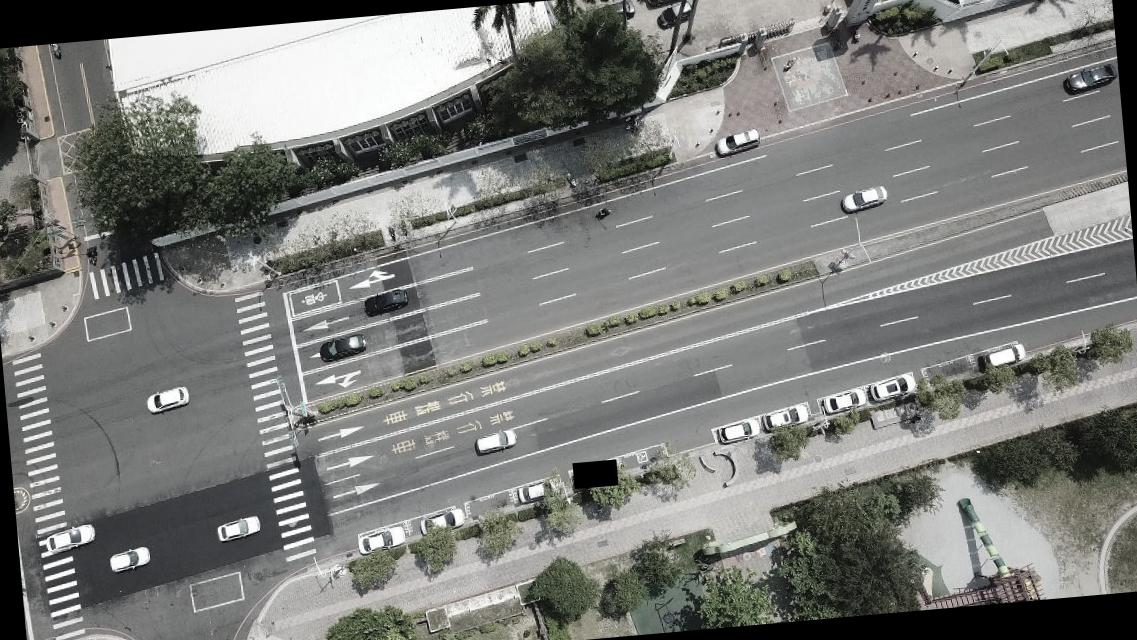vehicle: (44, 524, 94, 554), (1063, 66, 1114, 94), (839, 185, 888, 214), (418, 507, 464, 537), (516, 476, 561, 506), (714, 130, 762, 158), (319, 333, 366, 361), (358, 527, 406, 554), (363, 290, 409, 318), (764, 404, 810, 432), (869, 375, 915, 402), (821, 388, 865, 416), (144, 388, 190, 413), (476, 428, 516, 456), (109, 546, 152, 572), (718, 418, 762, 443), (985, 343, 1028, 368), (214, 518, 260, 540), (594, 1, 634, 22), (655, 4, 692, 26), (643, 0, 688, 7)
